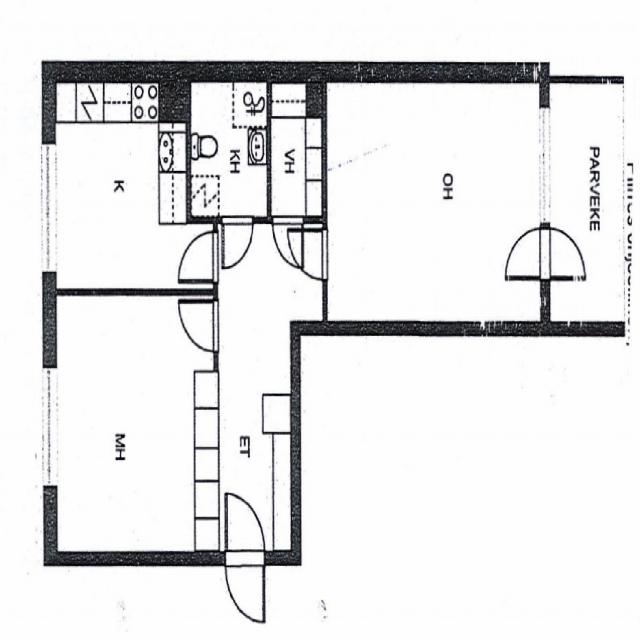door: (225, 550, 264, 622), (225, 494, 264, 565), (505, 228, 551, 279), (539, 228, 585, 279), (179, 300, 218, 351), (179, 232, 218, 282), (289, 230, 326, 279), (222, 216, 252, 267), (273, 216, 303, 266)
